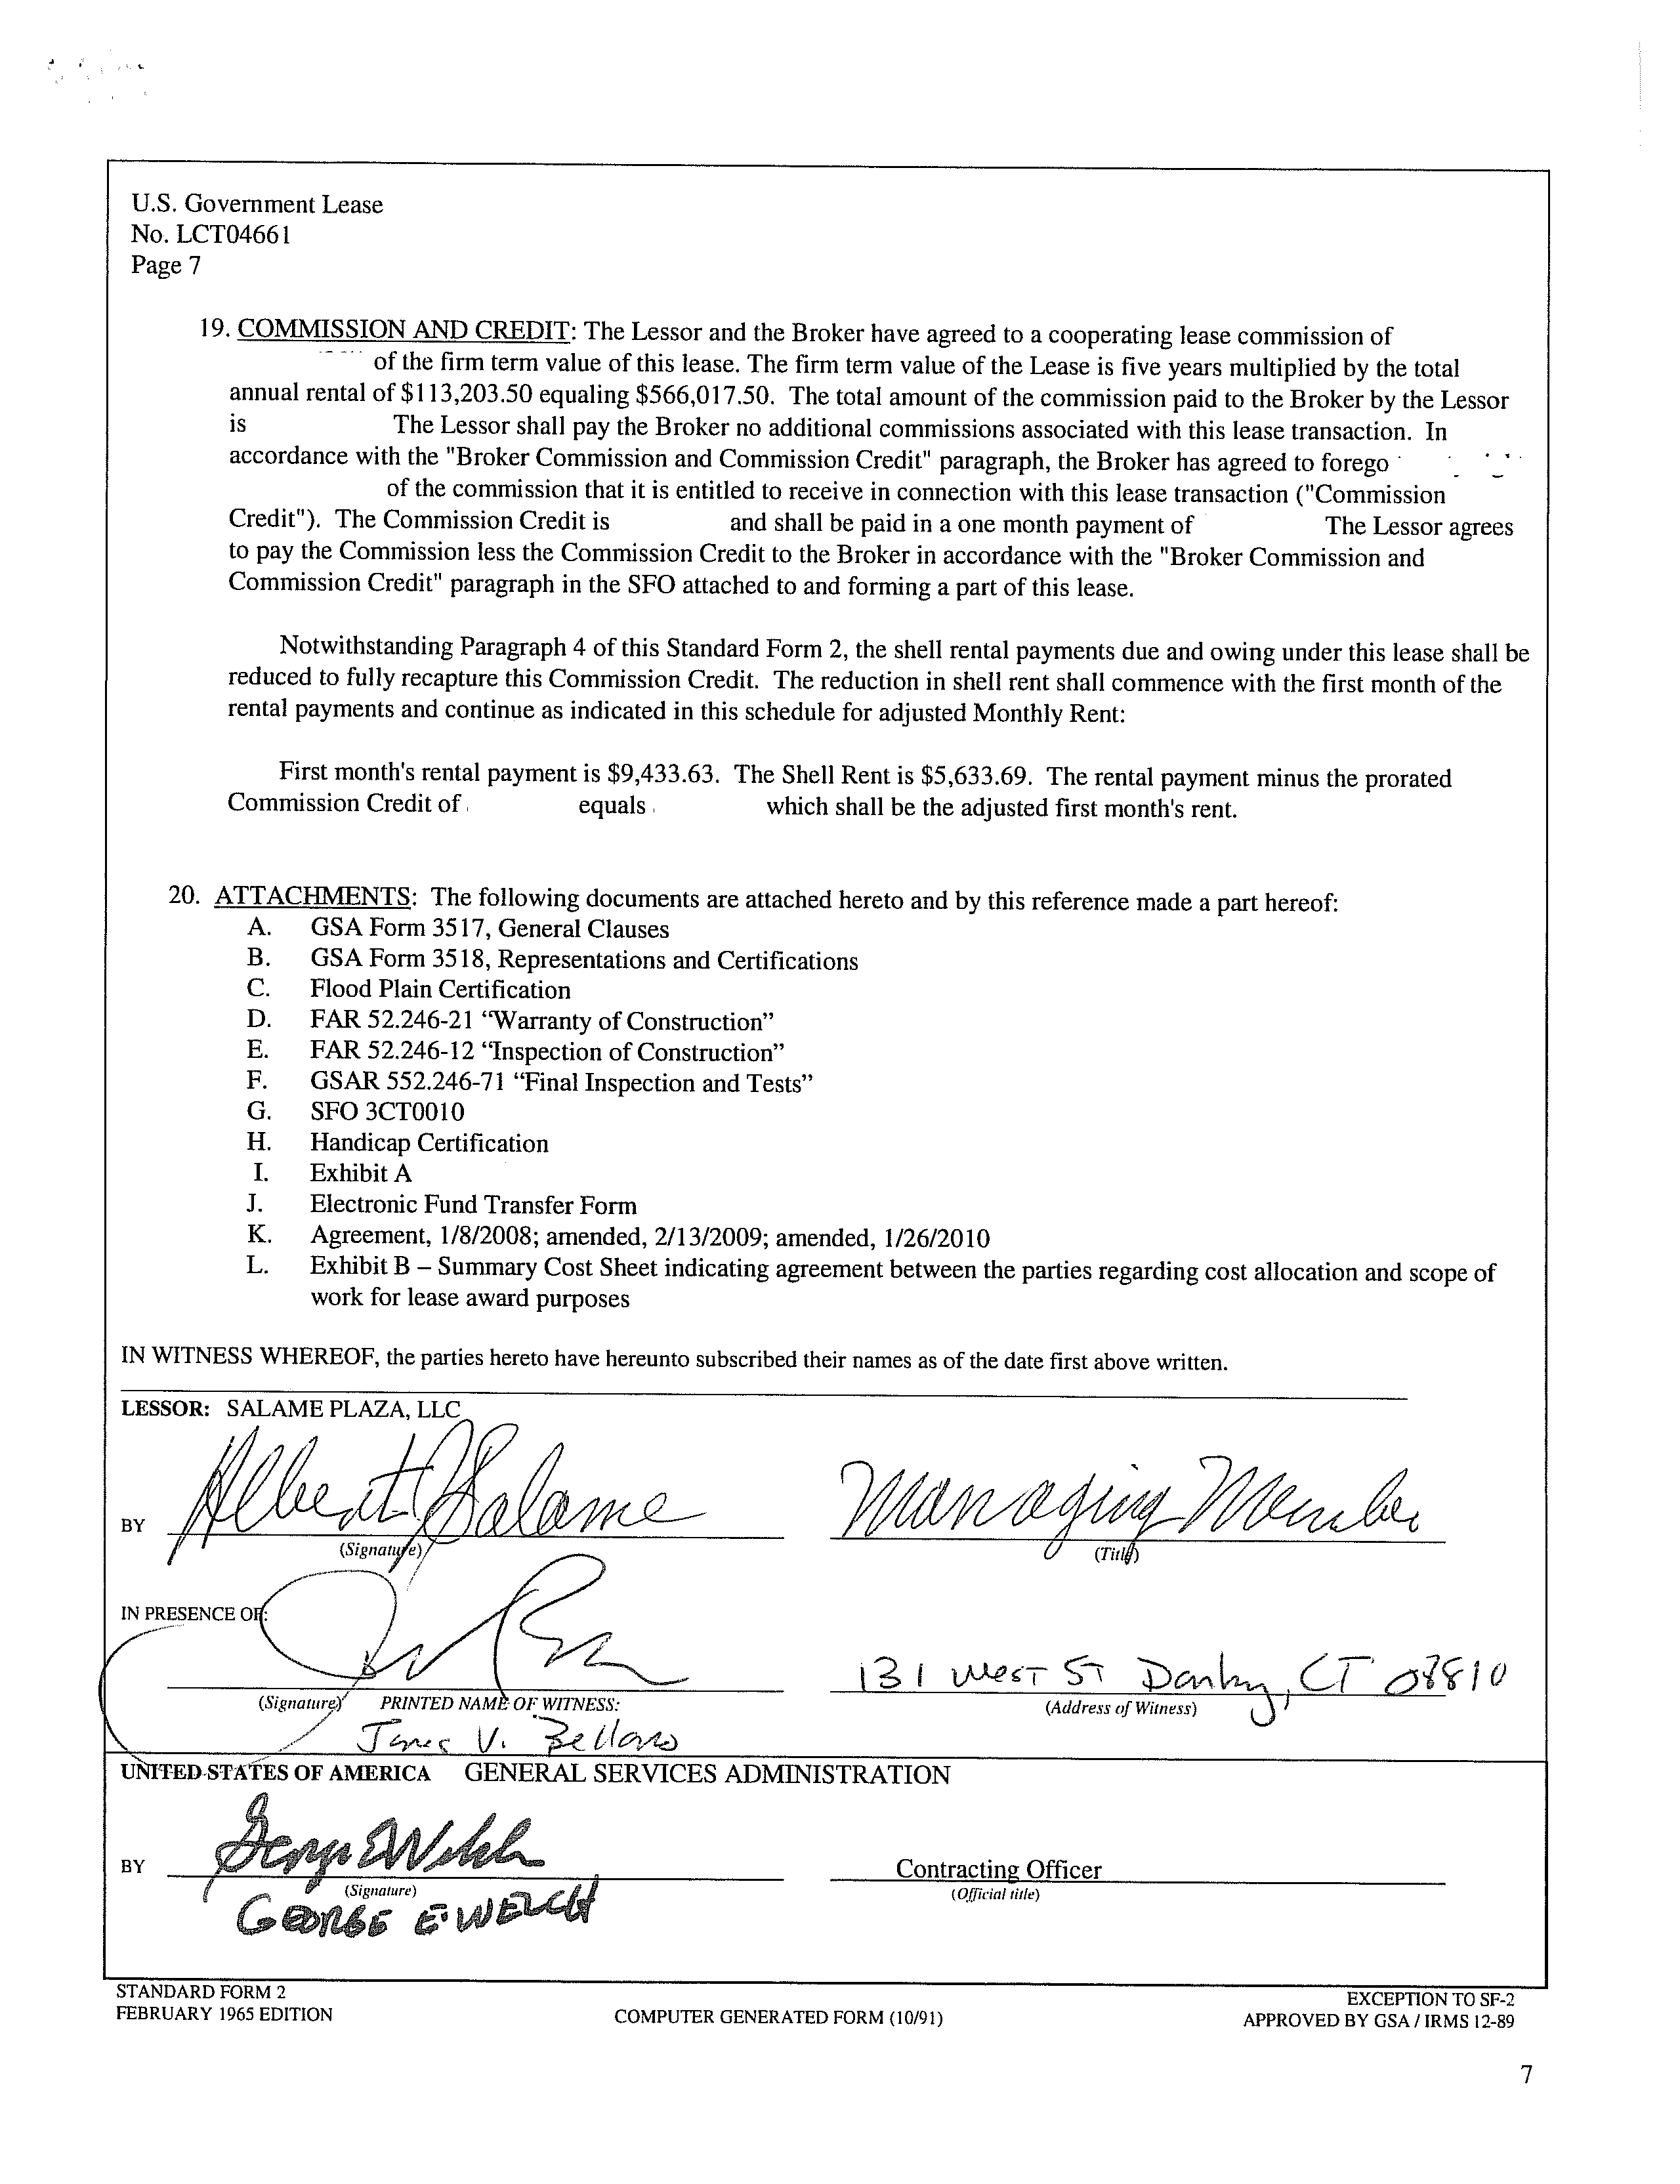handwritten: (808, 1413, 1447, 1574), (146, 1418, 711, 1568), (189, 1789, 623, 1956), (254, 1559, 727, 1704), (796, 1625, 1534, 1709), (64, 1644, 284, 1778), (330, 1724, 732, 1754)
